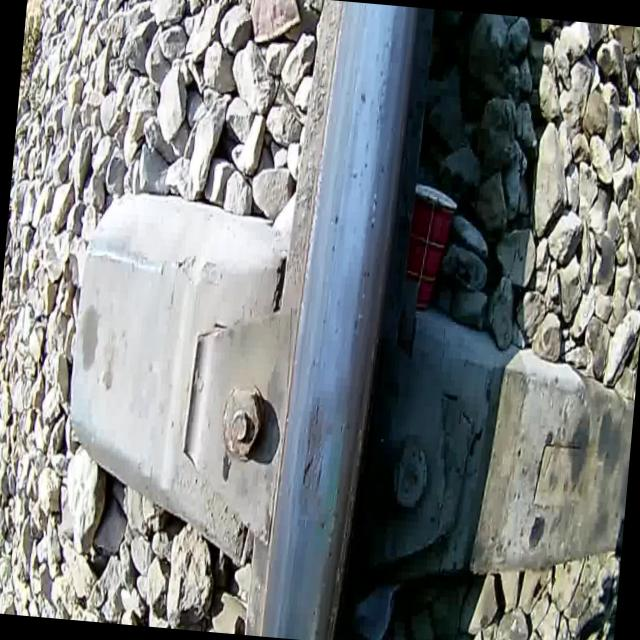Cracks: (294, 447, 332, 498), (308, 384, 326, 442)
Squats: (284, 378, 345, 540)
